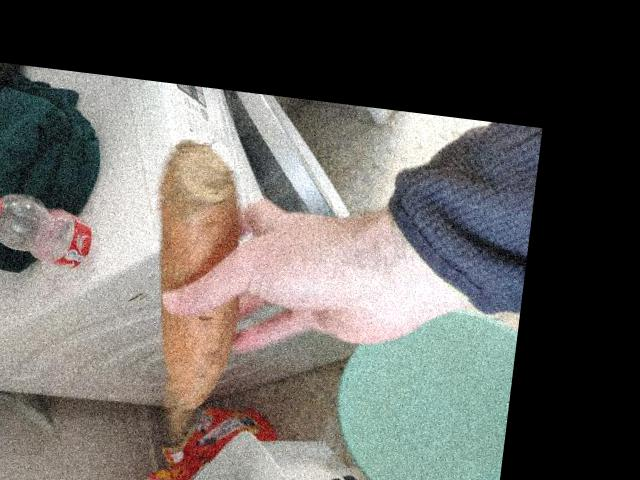sweet_potato: (159, 181, 249, 412)
